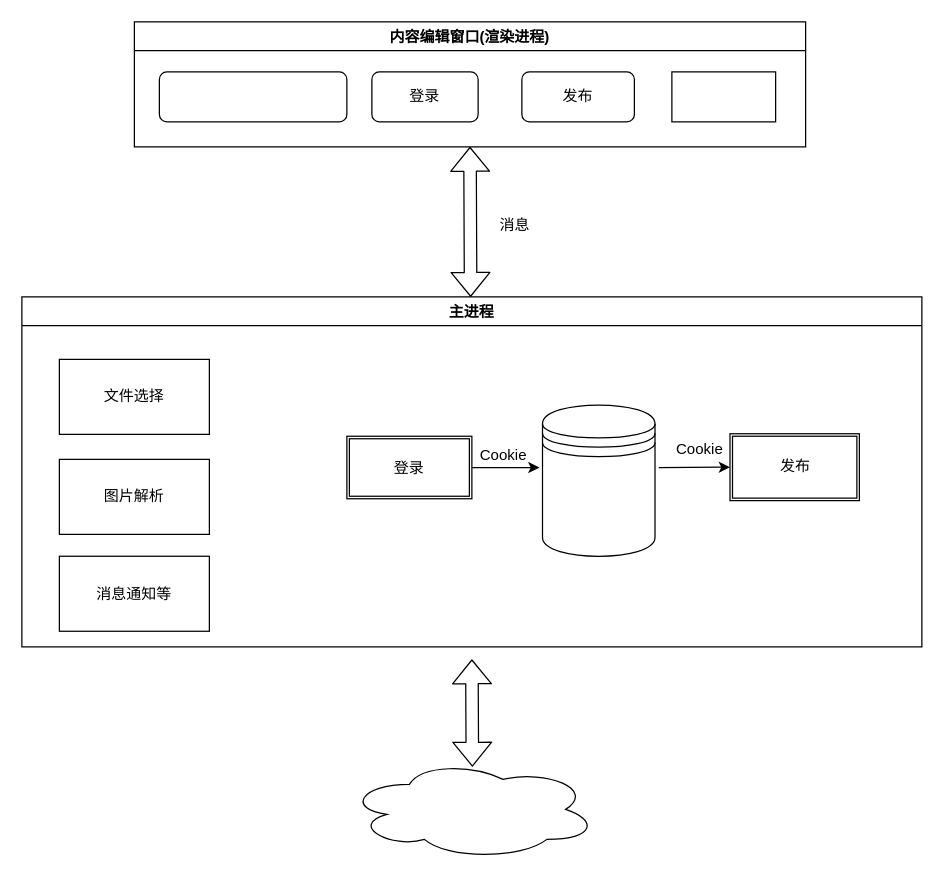
Image size: 944x881. Some labels were removed from this diagram. The centre of each missing label's shape, as x and y in pixels:
"electron-store" goes at pixel 598 480.
"内容编辑" goes at pixel 723 96.
"打开本地Markdown文件" goes at pixel 252 96.
"简书" goes at pixel 471 808.
